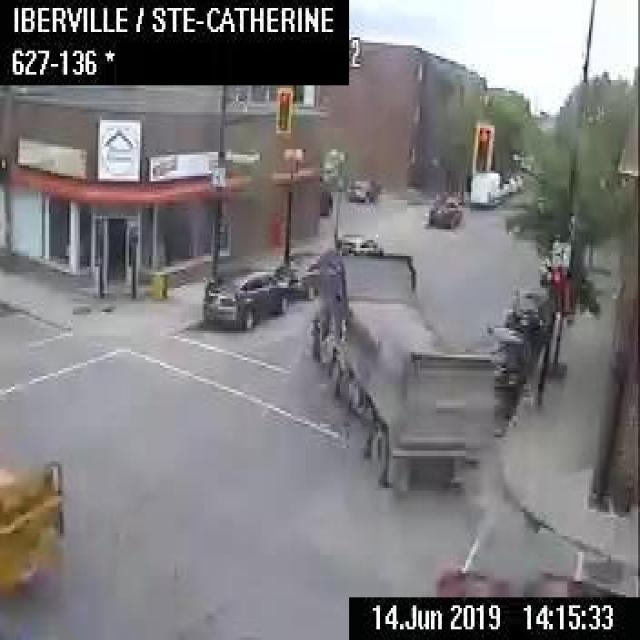vehicle: (305, 227, 498, 493), (0, 455, 67, 589), (473, 320, 531, 421), (201, 266, 285, 331), (504, 284, 550, 351), (274, 247, 322, 297), (424, 189, 460, 228), (469, 169, 500, 208), (346, 174, 378, 203), (497, 178, 510, 195), (510, 172, 520, 192), (504, 176, 516, 192)
